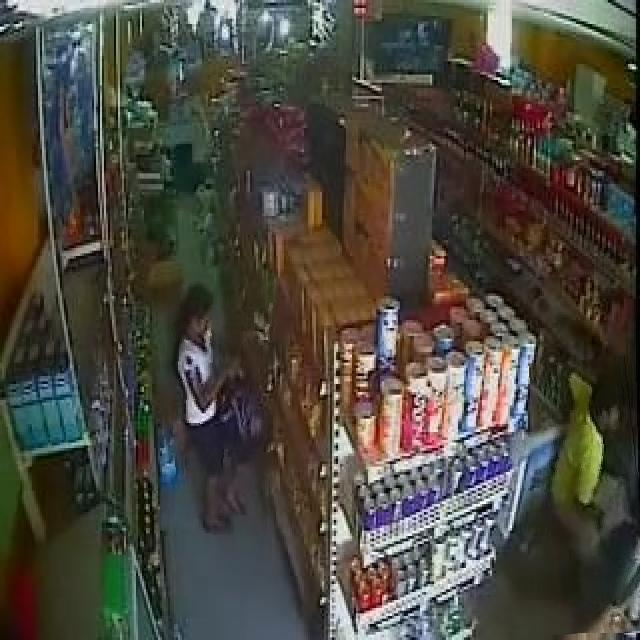normal: (162, 264, 276, 536), (534, 357, 640, 633)
